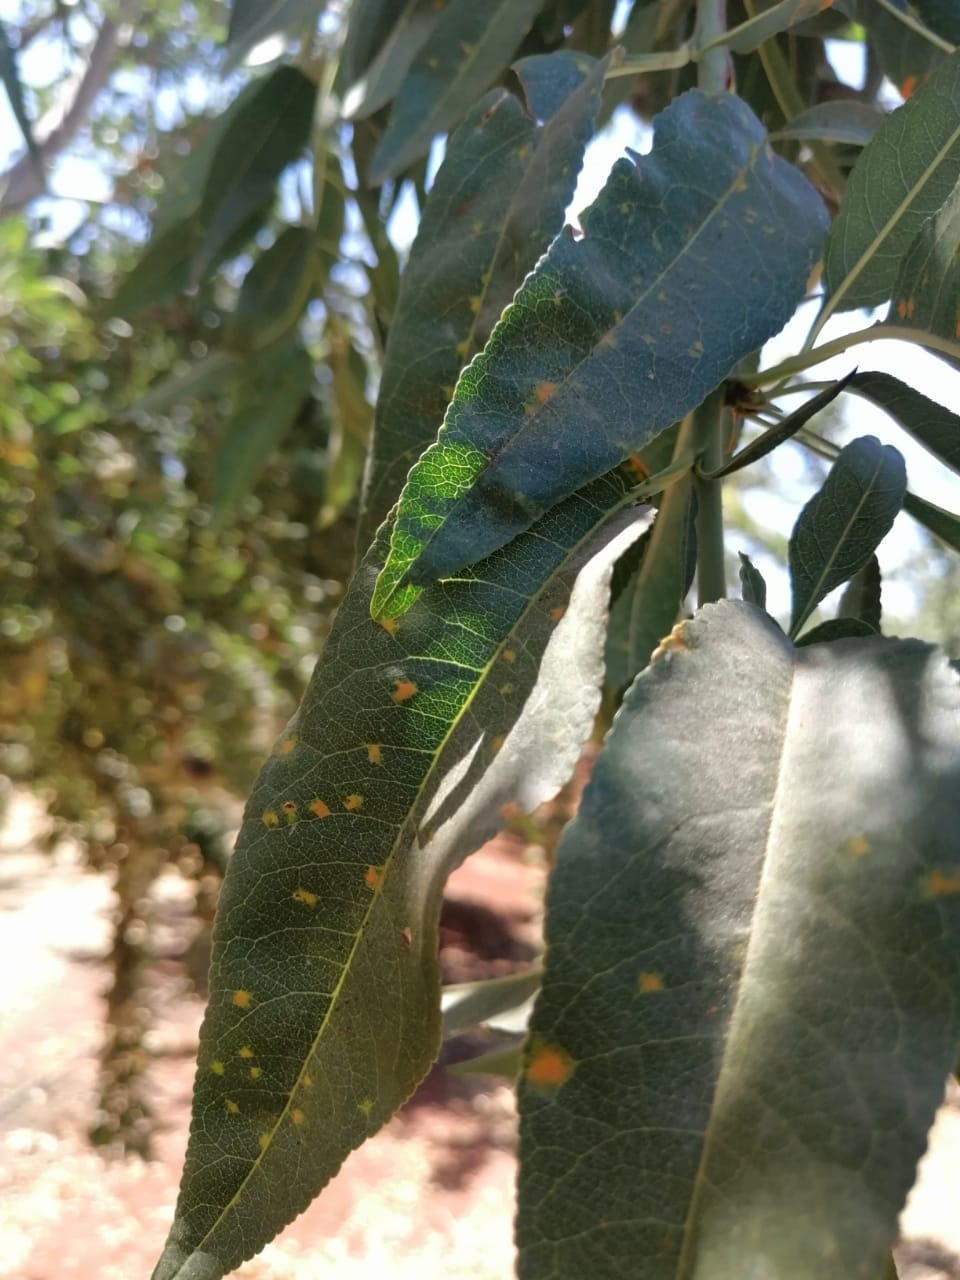polystigma: (145, 431, 663, 1280), (515, 596, 960, 1280), (367, 87, 836, 629), (363, 46, 624, 552)
